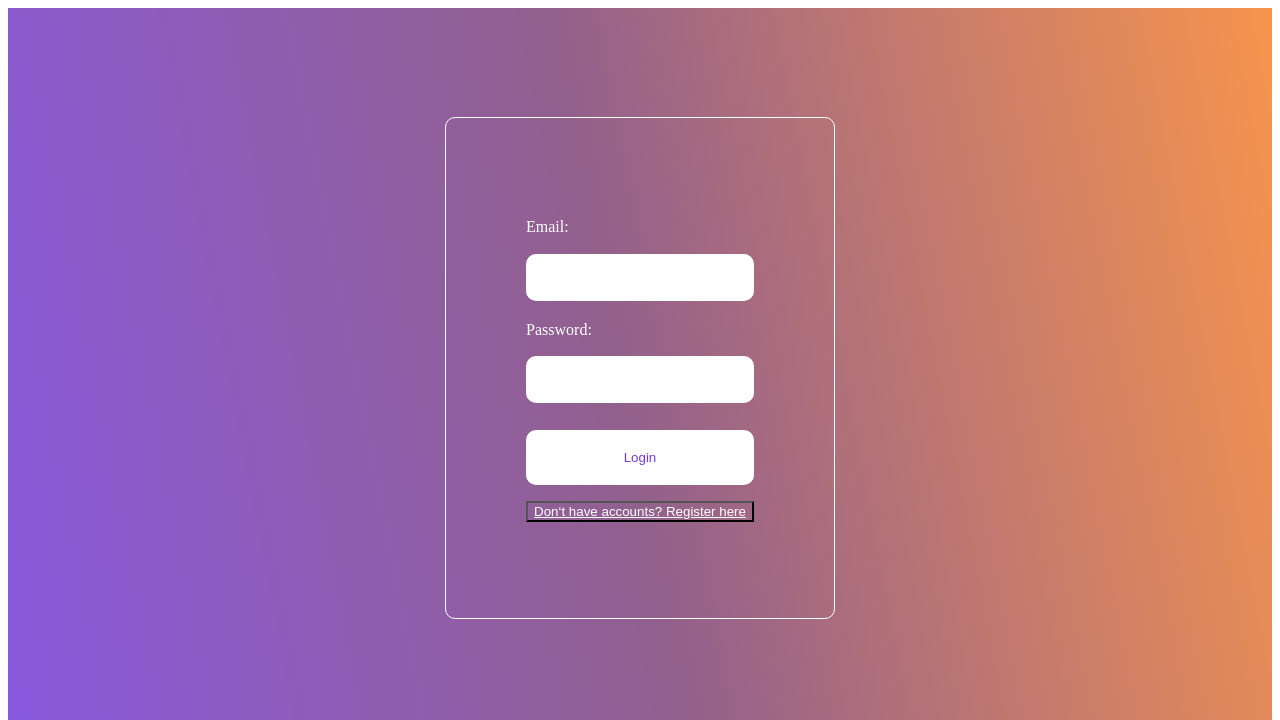
Login component › shows an error message if the user submits the form with empty email and password
Click the button "Login": [640, 457] box [526,430,754,485]
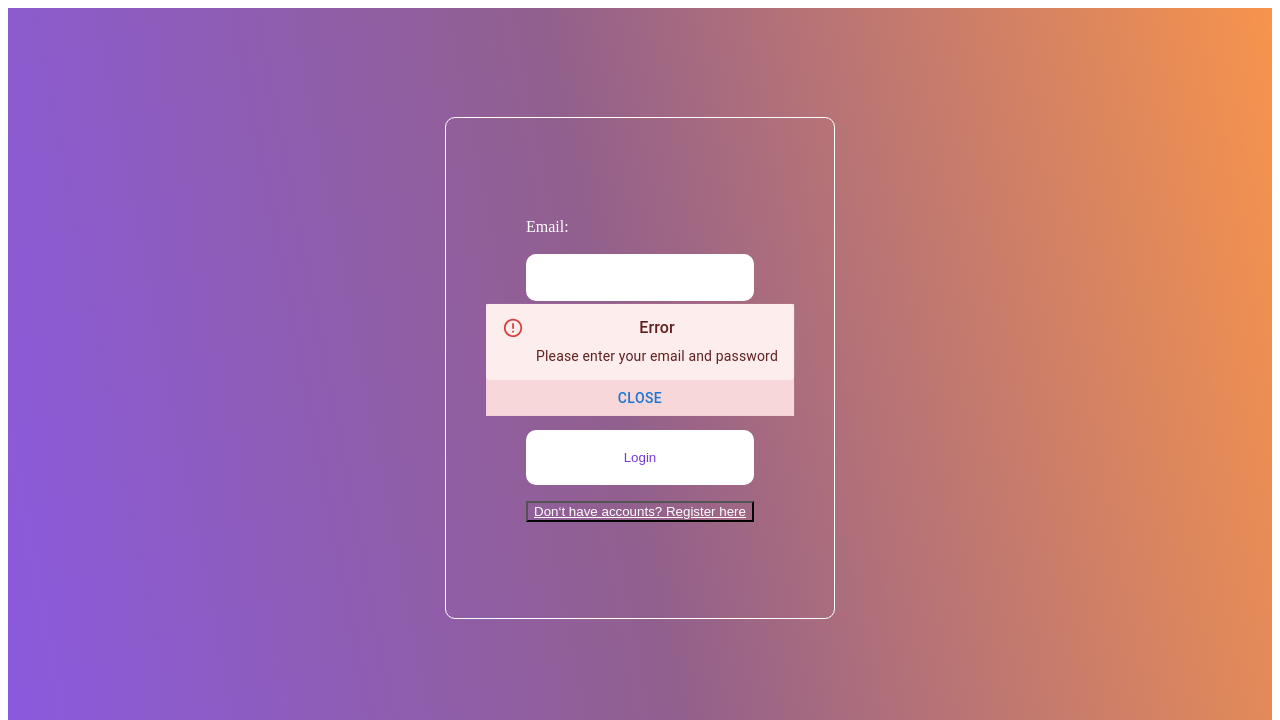
expect the message with test id "alert" shows "Please enter your email and password": met, box [536,348,778,364]
